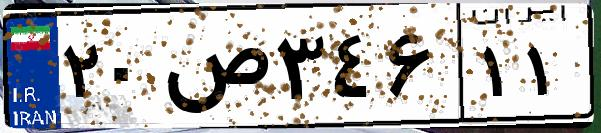0: (110, 28, 158, 98)
1: (475, 38, 525, 113), (525, 38, 570, 115)
2: (57, 26, 110, 100)
3: (270, 28, 330, 110)
4: (330, 28, 385, 110)
6: (385, 28, 445, 110)
ص: (158, 20, 270, 120)
